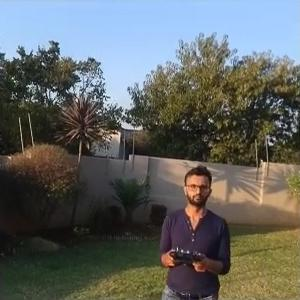follow: (154, 159, 234, 298)
